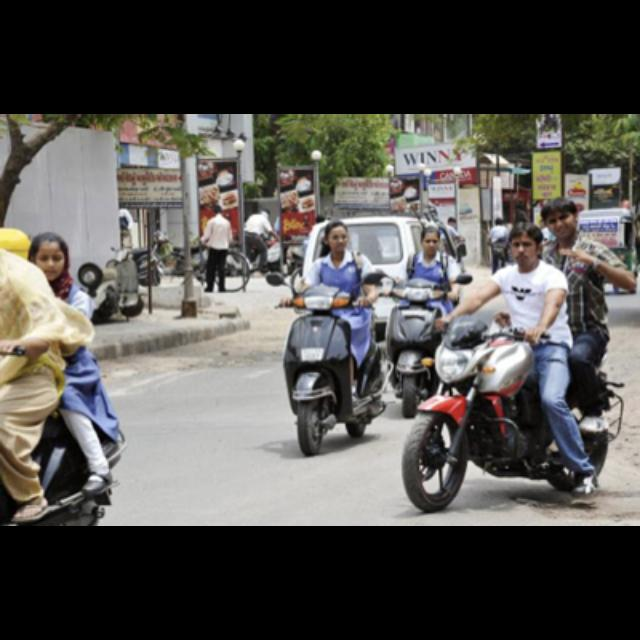Without Helmet: (506, 214, 544, 266), (320, 210, 356, 253), (418, 217, 447, 255)
